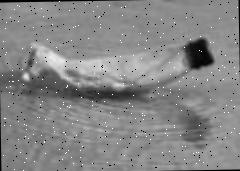plastic: (18, 34, 216, 98)
